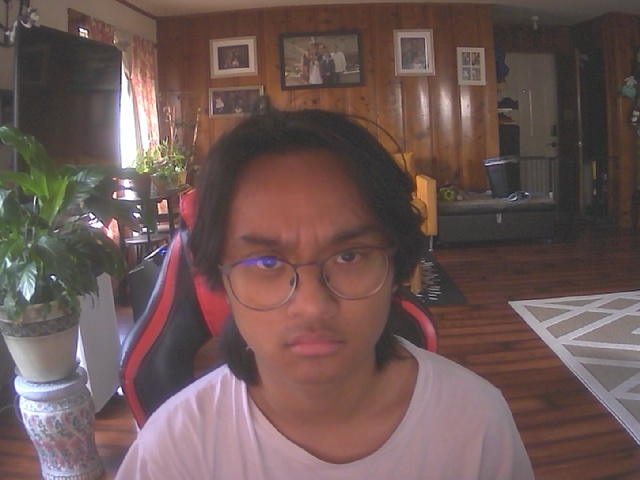anger: (219, 123, 413, 392)
